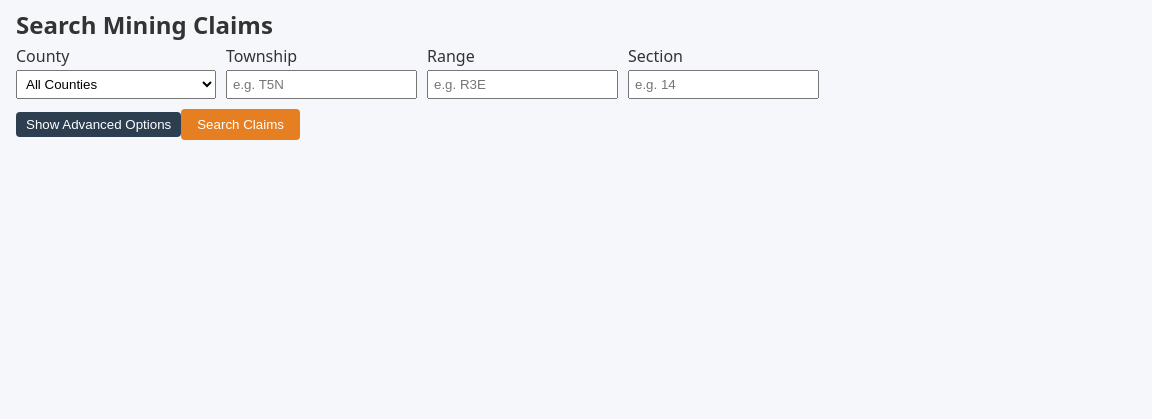
it: AdvancedSearchForm › shows advanced options when toggle is clicked
Click the button "Show Advanced Options": (99, 124) [16, 112, 181, 137]
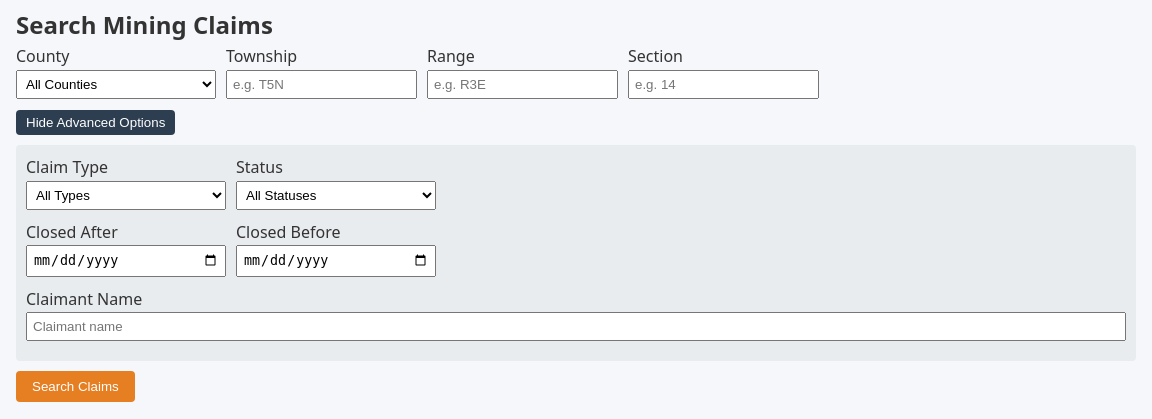
Now the dropdown labelled "Claim Type" is shown, box [26, 181, 226, 210]
Now the dropdown labelled "Status" is shown, box [236, 181, 436, 210]
